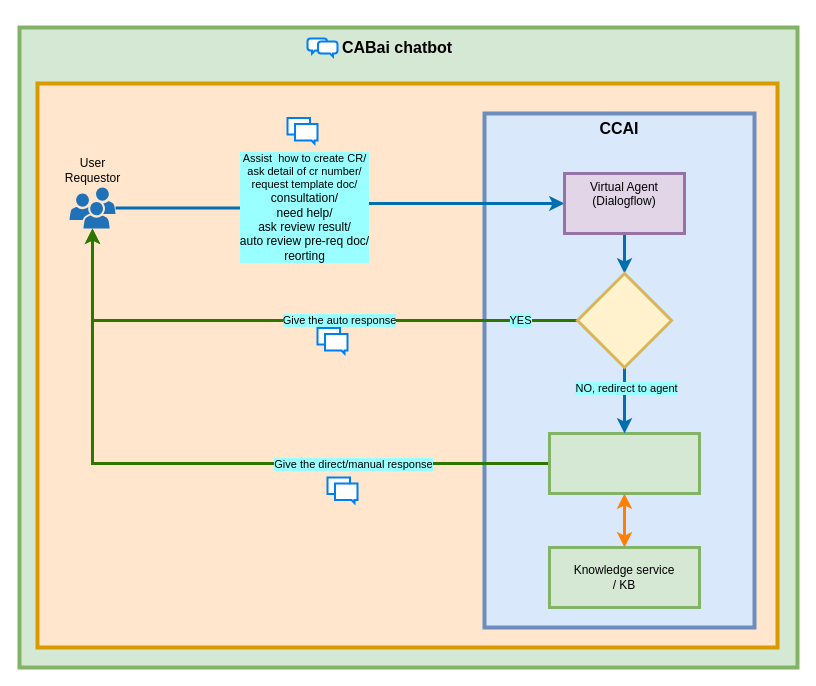
The diagram is 816 pixels wide and 686 high, and some of its shapes have lost their labels. The centre of each missing label's shape, as x and y in pixels:
Agent Assist Contact Center agent/ change manager agent: [624,463]
Can answer?: [624,320]
